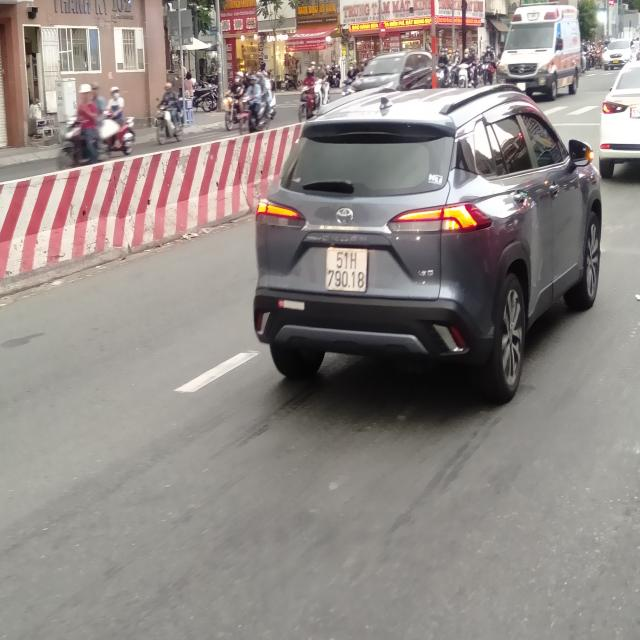bien_trang: (324, 245, 368, 291)
